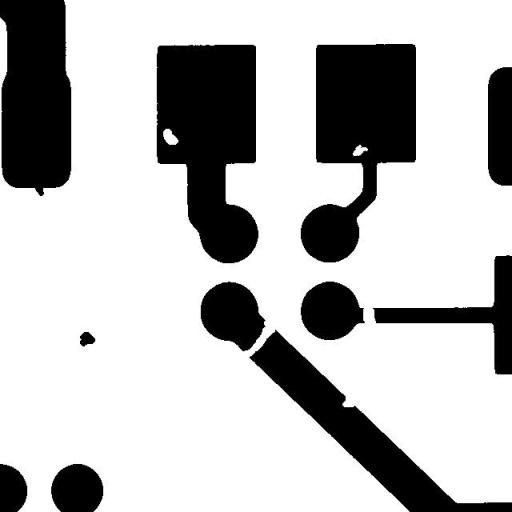copper: (72, 324, 102, 354)
mousebite: (334, 388, 362, 414)
open: (232, 313, 282, 365), (355, 300, 383, 336)
pin-hole: (155, 121, 186, 152), (345, 137, 375, 163)
spur: (26, 174, 51, 204)
